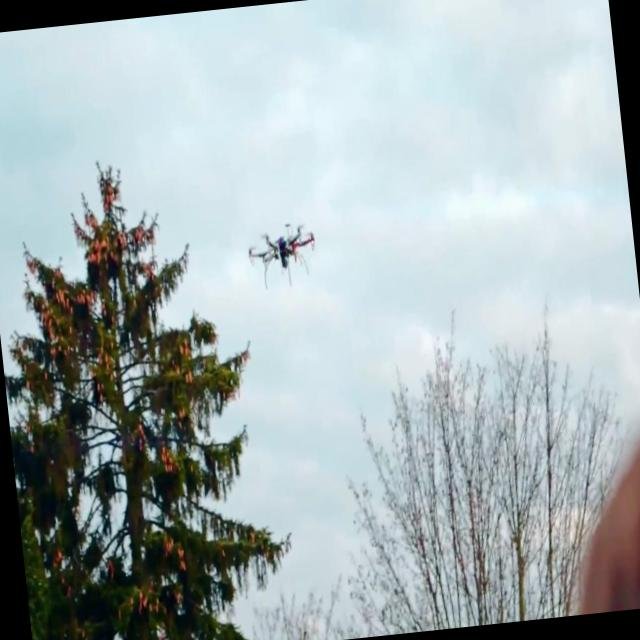drone: (242, 215, 324, 293)
